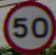Speed limit: (1, 1, 54, 49)
